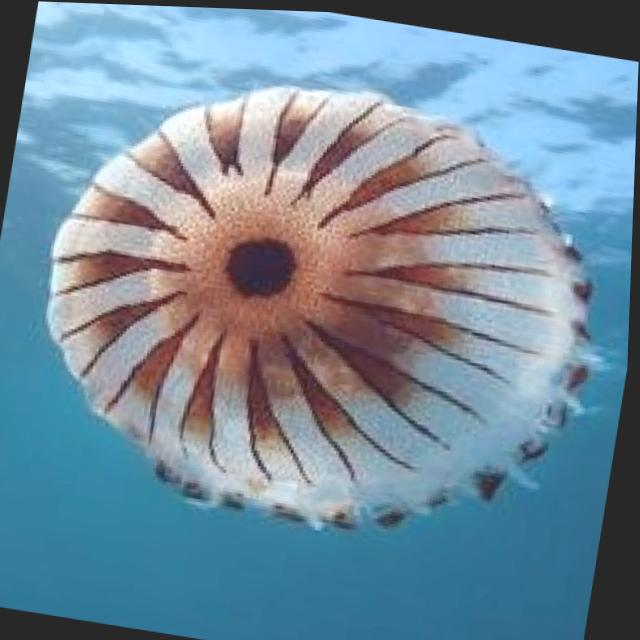Box-jellyfish: (14, 40, 639, 567)
